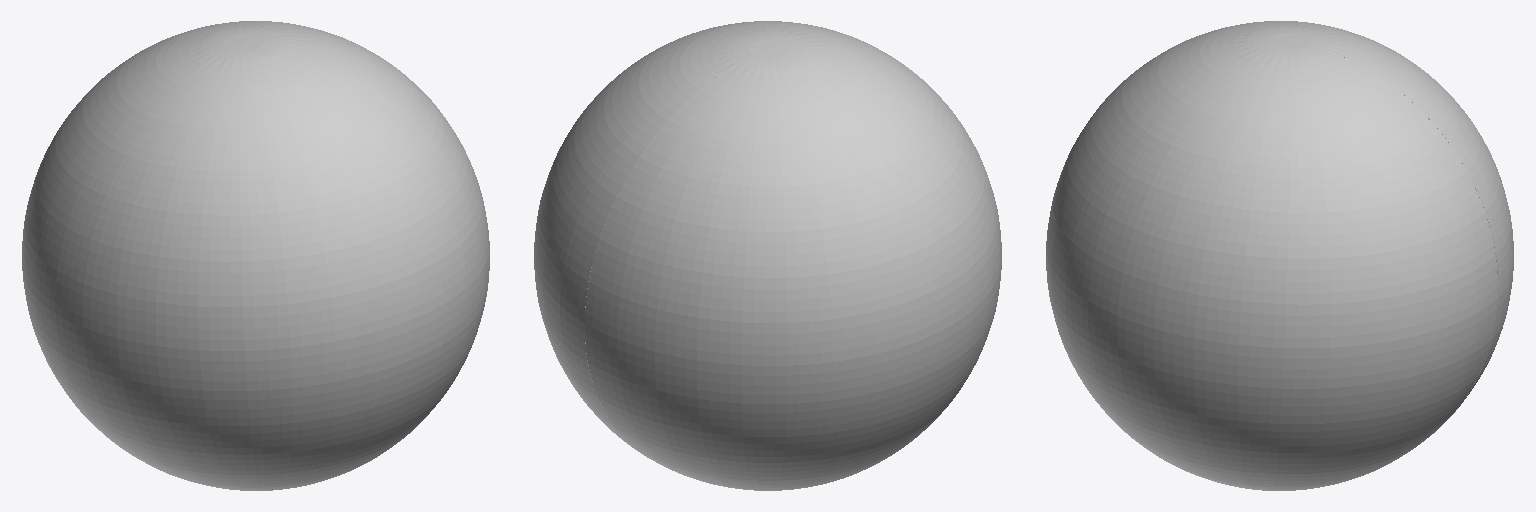
File: earth.obj
3 views of the same model, side by side, from view 1: azimuth 30°, elevation 25°; view 2: azimuth 150°, elevation 25°; view 3: azimuth 270°, elevation 25° (orthographic).
Parts seen in each view (by area): view 1: Sphere.005; view 2: Sphere.005; view 3: Sphere.005.
Boxes of the visible parts, x1,y1,x2,y2 form: Sphere.005: [22, 21, 489, 490]; Sphere.005: [534, 21, 1001, 490]; Sphere.005: [1046, 21, 1513, 490].
Bounding box in the file's own units: 1.98 × 1.99 × 1.98.